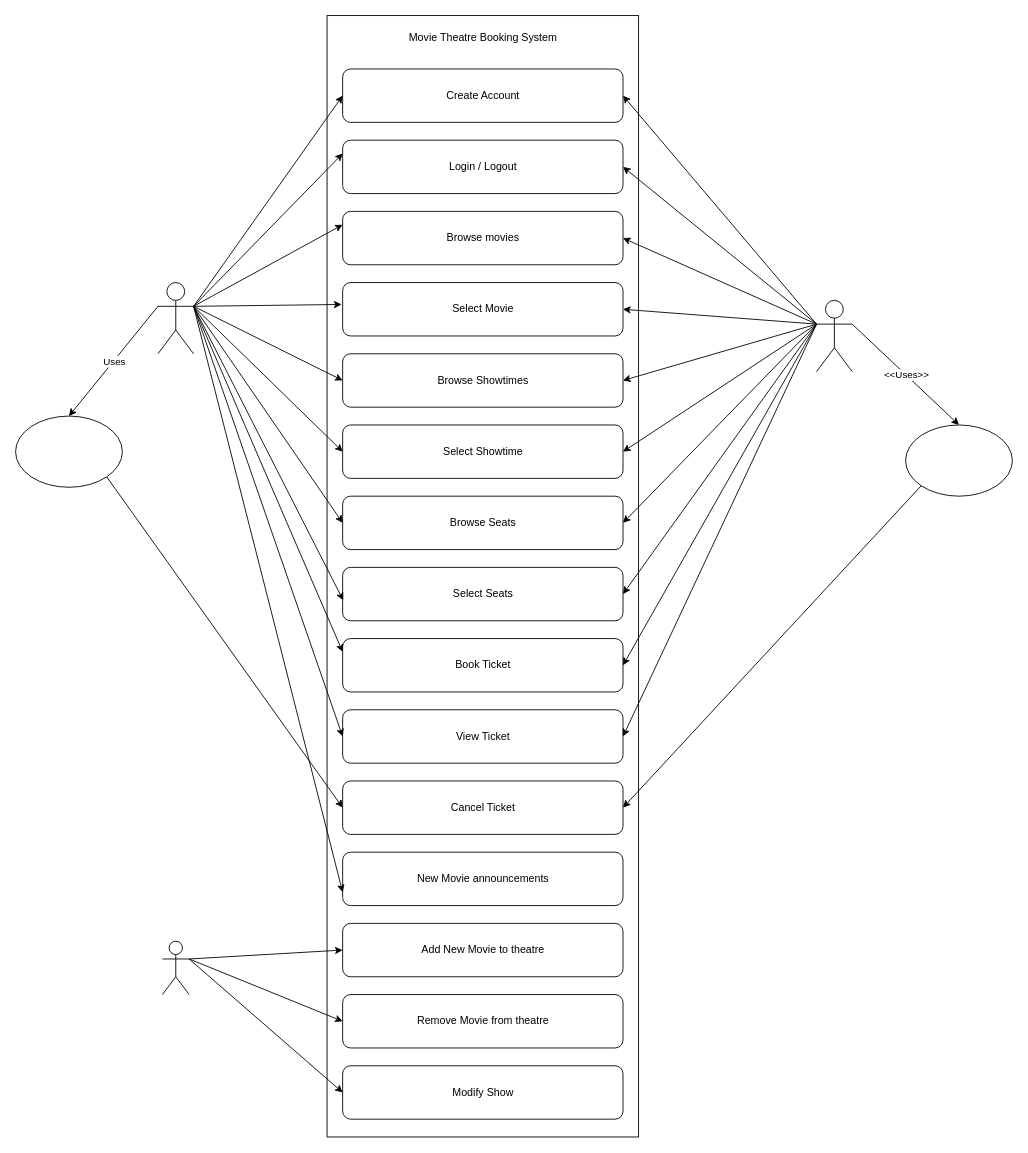
Some shapes in this 1028 by 1153 pixel diagram are drawn without their labels. The box of each missing label's shape, as (x1, y1, x2, y2) in pixels:
85% refund (15% admin fee): (905, 424, 1012, 496)
Admin: (162, 940, 189, 995)
Full refund: (15, 415, 122, 487)
Registered User: (157, 282, 194, 354)
User: (816, 299, 852, 372)
